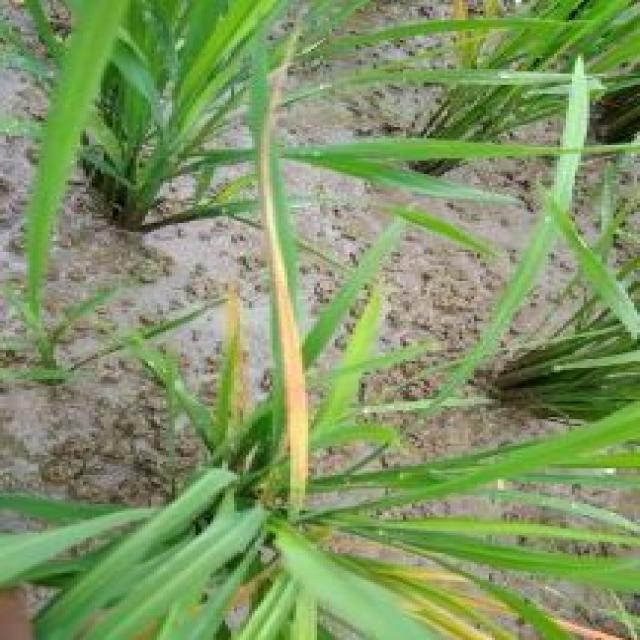Tungro: (249, 0, 344, 506)
